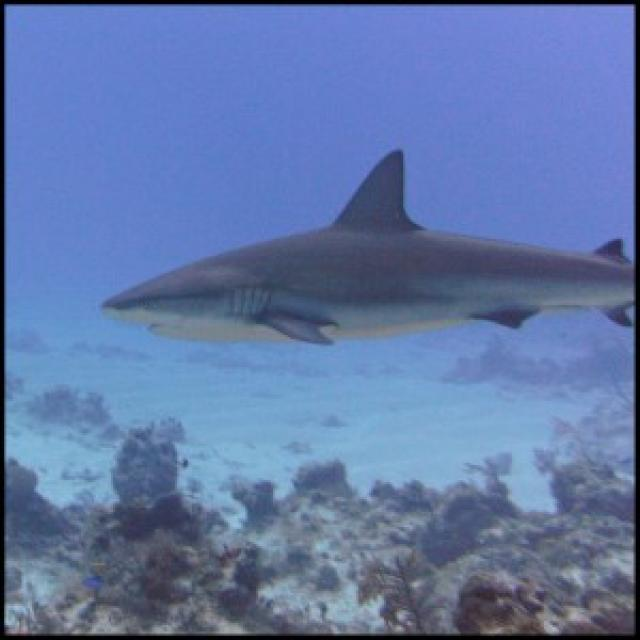Shark: (91, 144, 635, 376)
